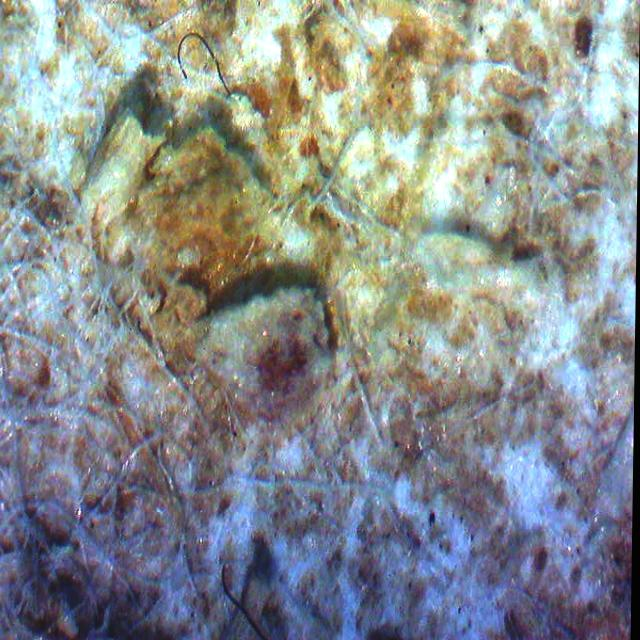microplastic: (170, 27, 230, 107)
